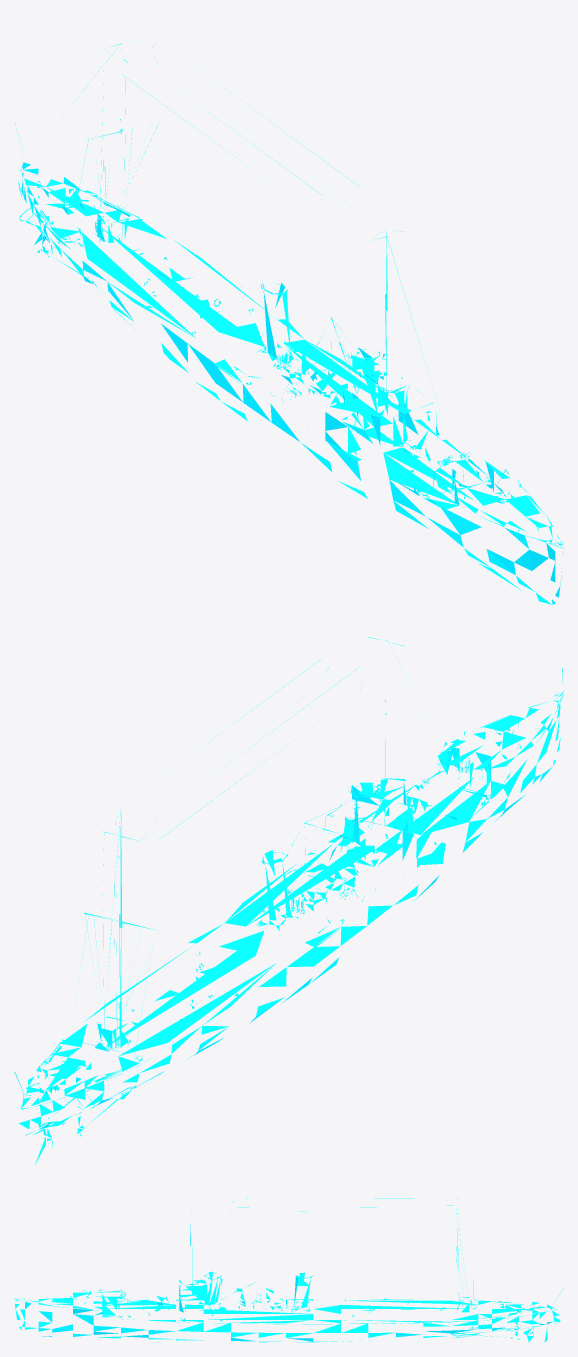
The picture shows the model from 3 angles, top to bottom: view 1: azimuth 30°, elevation 25°; view 2: azimuth 150°, elevation 25°; view 3: azimuth 270°, elevation 25°; orthographic projection. The views are drawn at different scales.
Bounding box in the file's own units: 0.564 × 1.58 × 5.34.
